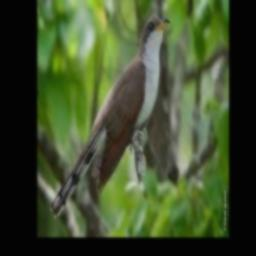Cuckoo: (50, 15, 170, 220)
